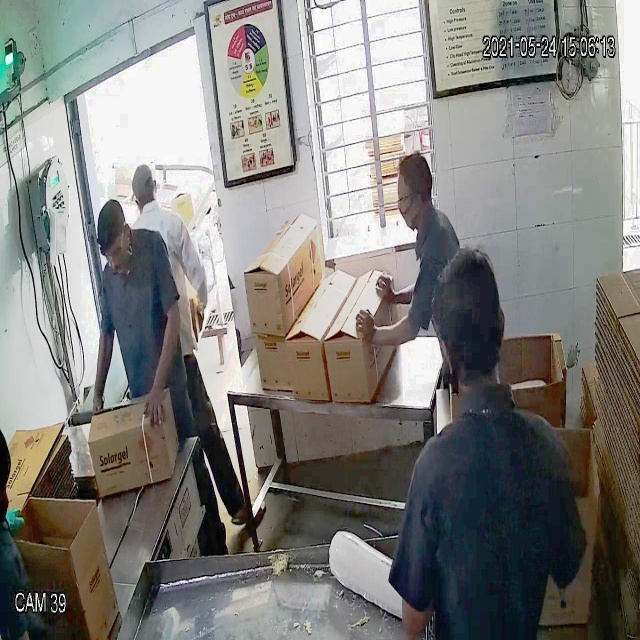Gafas: (96, 228, 127, 272)
